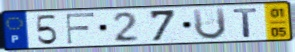2: (111, 11, 142, 44)
5: (34, 14, 60, 46)
7: (148, 9, 178, 43)
F: (64, 12, 97, 45)
T: (232, 7, 260, 39)
U: (191, 6, 228, 41)
